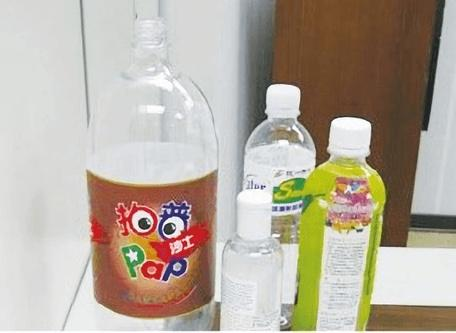plastic: (87, 0, 217, 328), (220, 84, 315, 331), (293, 117, 385, 331), (220, 190, 281, 331)
